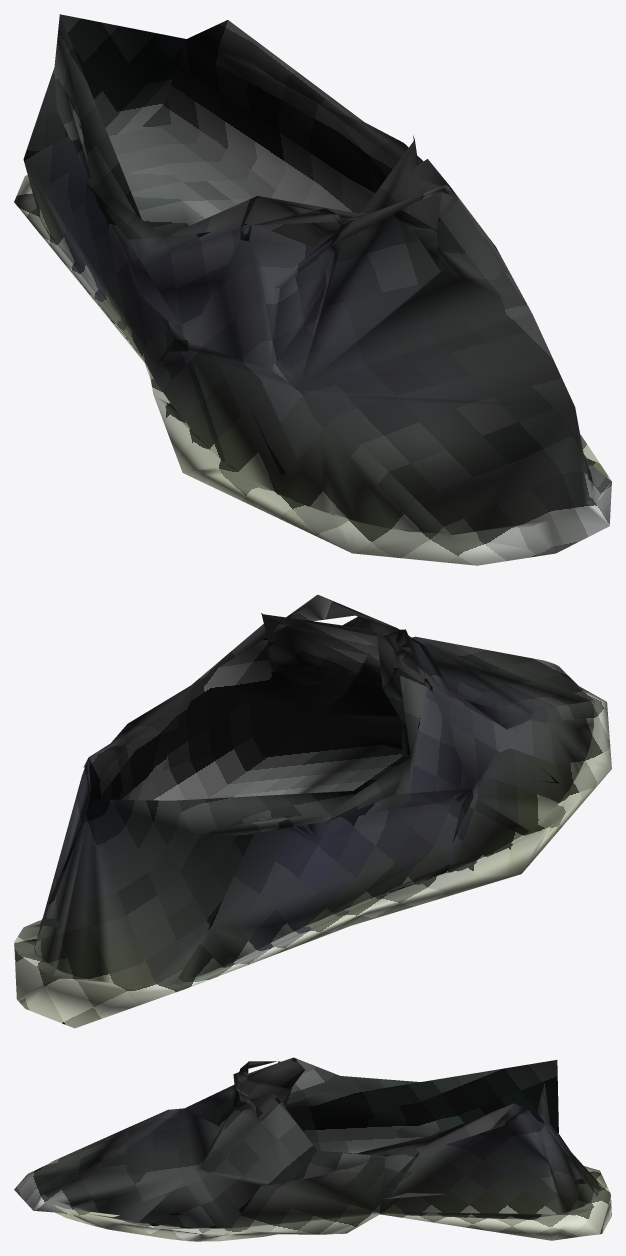
Rendered from Mens_Mako_Canoe_Moc_2Eye_Boat_Shoe_in_Coffee_K9e8FoV73uZ-low.glb.
3 renders of one model, top to bottom at view 1: azimuth 30°, elevation 25°; view 2: azimuth 150°, elevation 25°; view 3: azimuth 270°, elevation 25°, orthographic. The views are drawn at different scales.
Visible parts, largest first — view 1: Mens_Mako_Canoe_Moc_2Eye_Boat_Shoe_in_Coffee_K9e8FoV73uZ; view 2: Mens_Mako_Canoe_Moc_2Eye_Boat_Shoe_in_Coffee_K9e8FoV73uZ; view 3: Mens_Mako_Canoe_Moc_2Eye_Boat_Shoe_in_Coffee_K9e8FoV73uZ.
Part boxes in pixels (<box>): Mens_Mako_Canoe_Moc_2Eye_Boat_Shoe_in_Coffee_K9e8FoV73uZ: <box>14,14,611,565</box>; Mens_Mako_Canoe_Moc_2Eye_Boat_Shoe_in_Coffee_K9e8FoV73uZ: <box>14,594,611,1028</box>; Mens_Mako_Canoe_Moc_2Eye_Boat_Shoe_in_Coffee_K9e8FoV73uZ: <box>14,1057,611,1241</box>.
Bounding box in the file's own units: 0.1089 × 0.0787 × 0.2859.
Materials: 1 (1 with a texture image).
